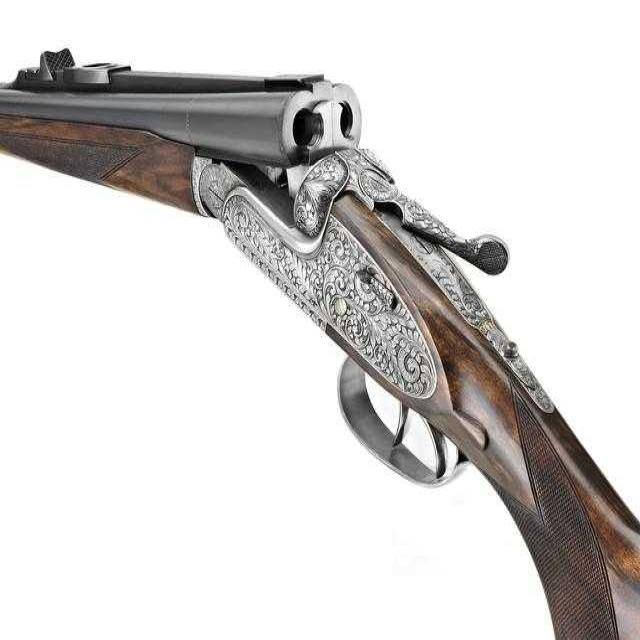heavyweapon: (1, 38, 637, 640)
